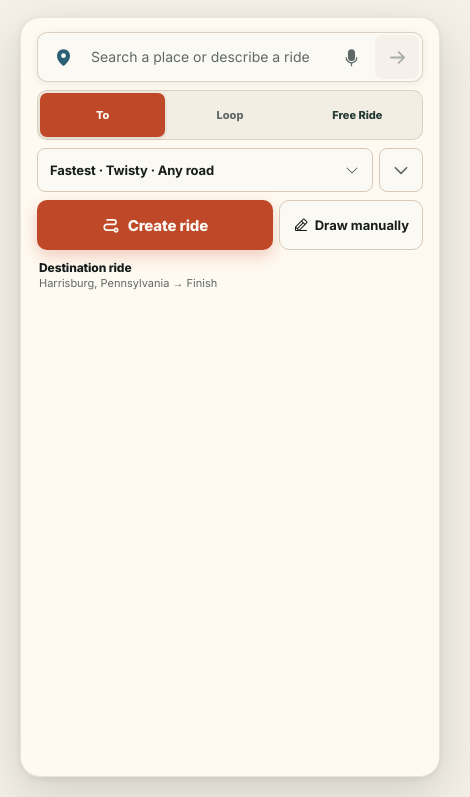
Test case: planner command surface › starts map-specific editing from Ride options instead of hiding it in map-global chrome
Click the button with aria-label "Ride options". click: (205, 170)
box: [37,148,373,192]
(page scrolled)
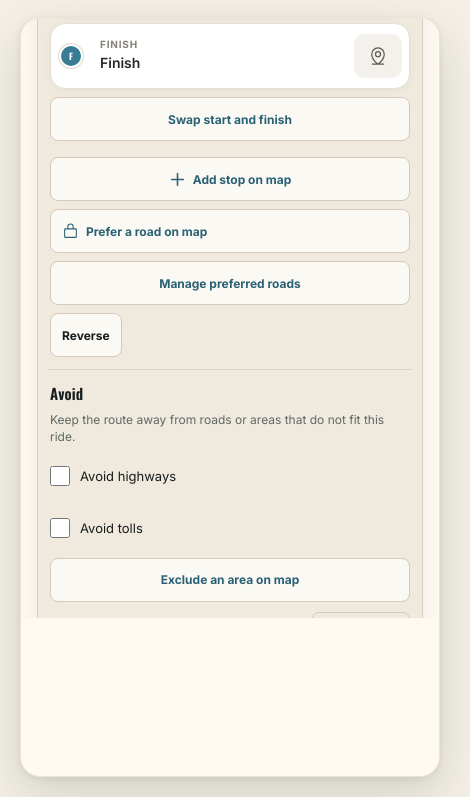
Expected: the button "Exclude an area on map" is shown, [50,558,410,602]
Expected: the button "Prefer a road on map" is shown, [50,209,410,253]
